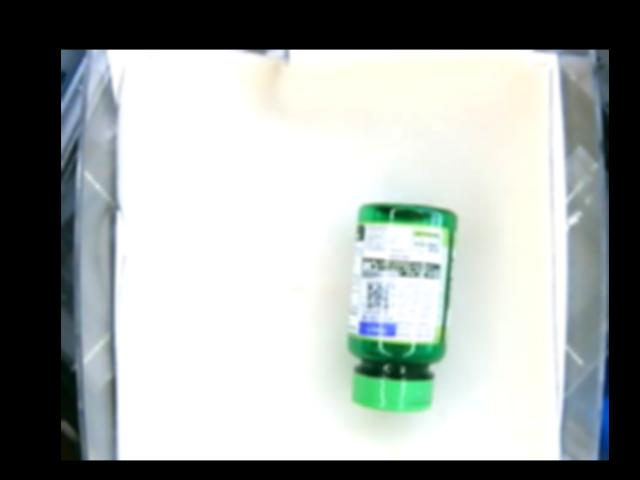Bottle: (349, 201, 459, 410)
